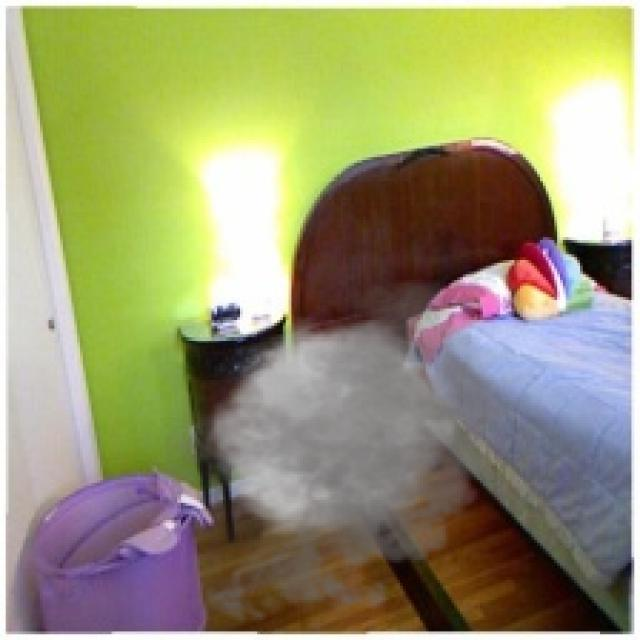Smoke: (140, 266, 529, 634)
